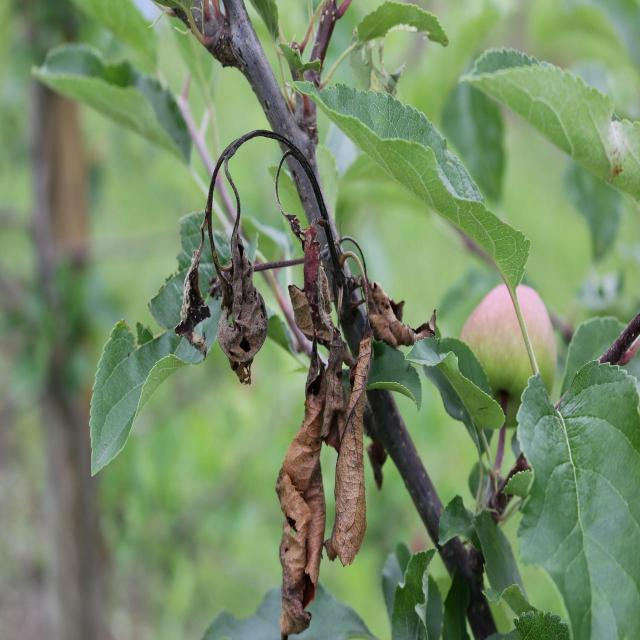-FireBlight-: (173, 107, 442, 637)
